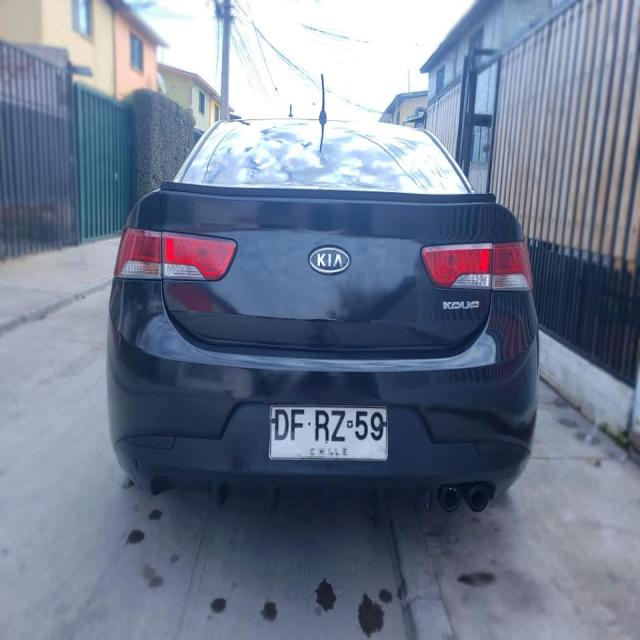patente: (267, 404, 389, 462)
